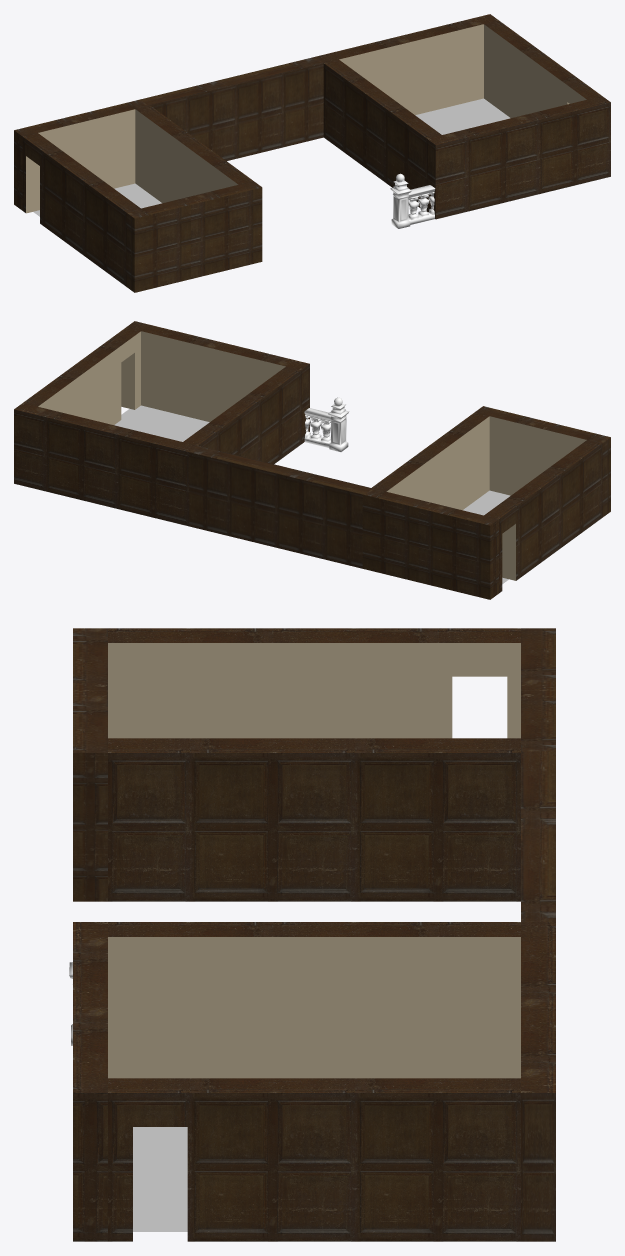
The model's file is New_rooms.fbx.
3 views of the same model, one above another, from view 1: azimuth 30°, elevation 25°; view 2: azimuth 150°, elevation 25°; view 3: azimuth 270°, elevation 25° (orthographic). The views are drawn at different scales.
Visible parts, largest first — view 1: Entry_wall_033.008, Entry_wall_007, Entry_wall_033.003, Entry_wall_033.006, Entry_wall_033.002, Entry_wall_033.005, Entry_wall_033.001, Entry_wall_033.007, Entry_wall_033.004, Plane.003, Aset_modular__M_uifnae2dw_00_LOD4_002, Plane.004; view 2: Entry_wall_033.006, Entry_wall_007, Entry_wall_033.004, Entry_wall_033.008, Entry_wall_033.002, Entry_wall_033.005, Entry_wall_033.001, Entry_wall_033.007, Entry_wall_033.003, Plane.003, Aset_modular__M_uifnae2dw_00_LOD4_002, Plane.004; view 3: Entry_wall_033.001, Entry_wall_033.005, Entry_wall_033.007, Entry_wall_033.002, Entry_wall_033.008, Entry_wall_033.006, Entry_wall_033.003, Entry_wall_007, Plane.003, Entry_wall_033.004.
Boxes of the visible parts, <box> form: Entry_wall_033.008: <box>427,96,610,219</box>; Entry_wall_007: <box>140,57,323,160</box>; Entry_wall_033.003: <box>126,181,262,292</box>; Entry_wall_033.006: <box>315,14,498,114</box>; Entry_wall_033.002: <box>22,133,140,286</box>; Entry_wall_033.005: <box>323,59,441,211</box>; Entry_wall_033.001: <box>135,105,252,203</box>; Entry_wall_033.007: <box>484,20,601,117</box>; Entry_wall_033.004: <box>14,99,148,210</box>; Plane.003: <box>415,98,510,134</box>; Aset_modular__M_uifnae2dw_00_LOD4_002: <box>390,173,435,228</box>; Plane.004: <box>33,183,161,216</box>; Entry_wall_033.006: <box>14,403,197,526</box>; Entry_wall_007: <box>189,446,372,568</box>; Entry_wall_033.004: <box>362,488,498,599</box>; Entry_wall_033.008: <box>126,321,309,443</box>; Entry_wall_033.002: <box>484,440,602,593</box>; Entry_wall_033.005: <box>183,366,301,464</box>; Entry_wall_033.001: <box>372,412,489,510</box>; Entry_wall_033.007: <box>23,327,140,424</box>; Entry_wall_033.003: <box>474,406,610,517</box>; Plane.003: <box>114,405,209,441</box>; Aset_modular__M_uifnae2dw_00_LOD4_002: <box>304,397,349,451</box>; Plane.004: <box>463,490,510,583</box>; Entry_wall_033.001: <box>108,738,520,901</box>; Entry_wall_033.005: <box>108,922,520,1078</box>; Entry_wall_033.007: <box>108,1078,520,1241</box>; Entry_wall_033.002: <box>108,628,520,738</box>; Entry_wall_033.008: <box>73,922,107,1241</box>; Entry_wall_033.006: <box>521,922,555,1241</box>; Entry_wall_033.003: <box>73,628,107,901</box>; Entry_wall_007: <box>521,751,555,921</box>; Plane.003: <box>133,1127,187,1231</box>; Entry_wall_033.004: <box>521,628,555,751</box>.
Size of what is drawn, in the model's own units: 23.52 by 3.52 by 10.41.
